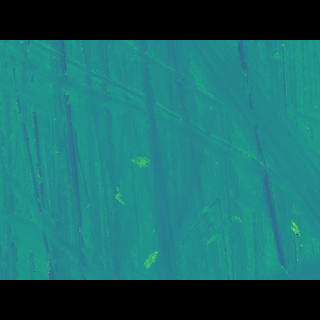Loch: (180, 70, 320, 222), (0, 166, 88, 240)
